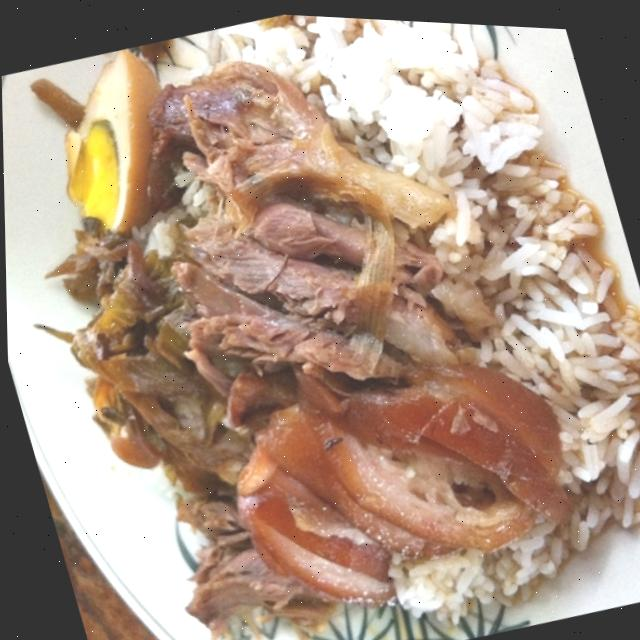猪肉菜式: (14, 1, 640, 640)
